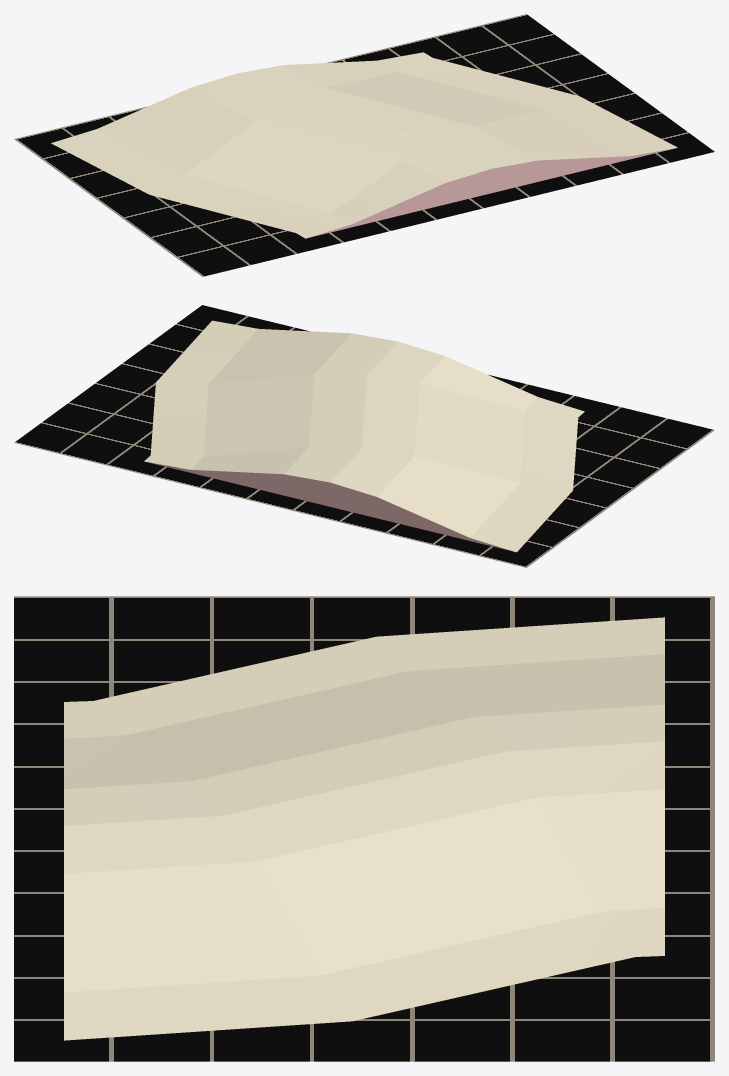
The model's file is Terrain_Sand_Incline_Esse_Both_6x10.glb.
3 views of the same model, one above another, from view 1: azimuth 30°, elevation 25°; view 2: azimuth 150°, elevation 25°; view 3: azimuth 270°, elevation 25° (orthographic). The views are drawn at different scales.
Visible parts, largest first — view 1: Terrain_Sand_Incline_Esse_Both_6x10, Floor; view 2: Terrain_Sand_Incline_Esse_Both_6x10, Floor; view 3: Terrain_Sand_Incline_Esse_Both_6x10, Floor.
Boxes of the visible parts, box(x1,y1,x2,y2) form: Terrain_Sand_Incline_Esse_Both_6x10: box(51, 52, 677, 238); Floor: box(14, 14, 714, 276); Terrain_Sand_Incline_Esse_Both_6x10: box(144, 320, 584, 552); Floor: box(14, 305, 714, 567); Terrain_Sand_Incline_Esse_Both_6x10: box(64, 617, 664, 1040); Floor: box(14, 596, 714, 1061).
Bounding box in the file's own units: 1100 × 50 × 700.
4 materials, 1 textured.
